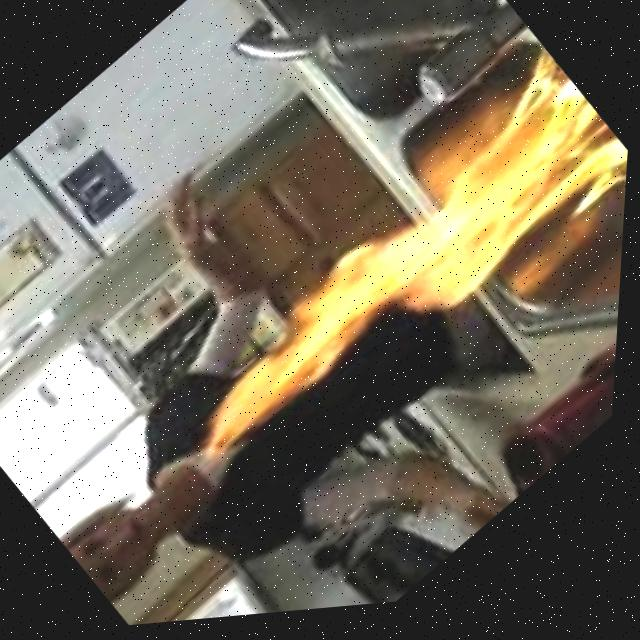Fire: (165, 60, 635, 503)
